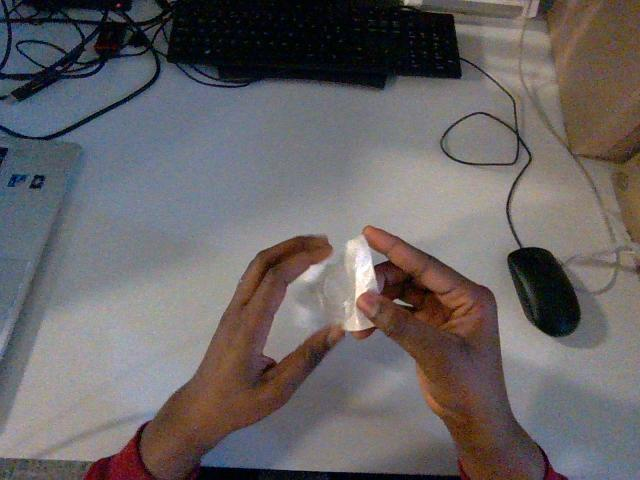syringe: (290, 235, 378, 330)
